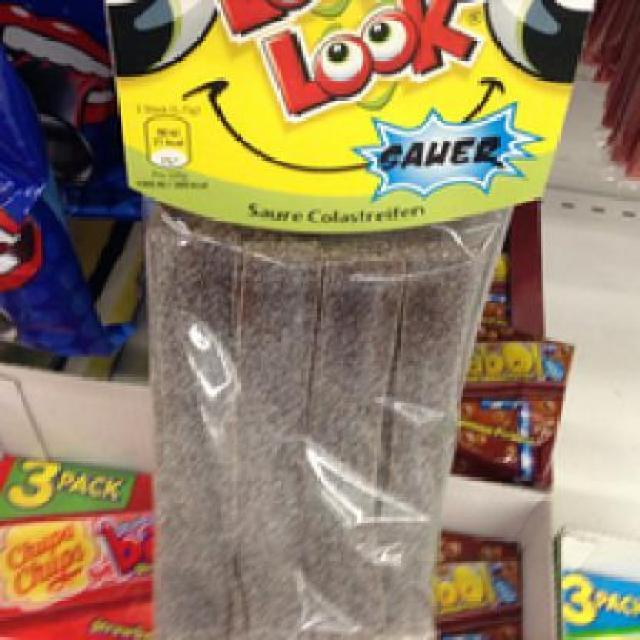Candy: (122, 0, 515, 620)
